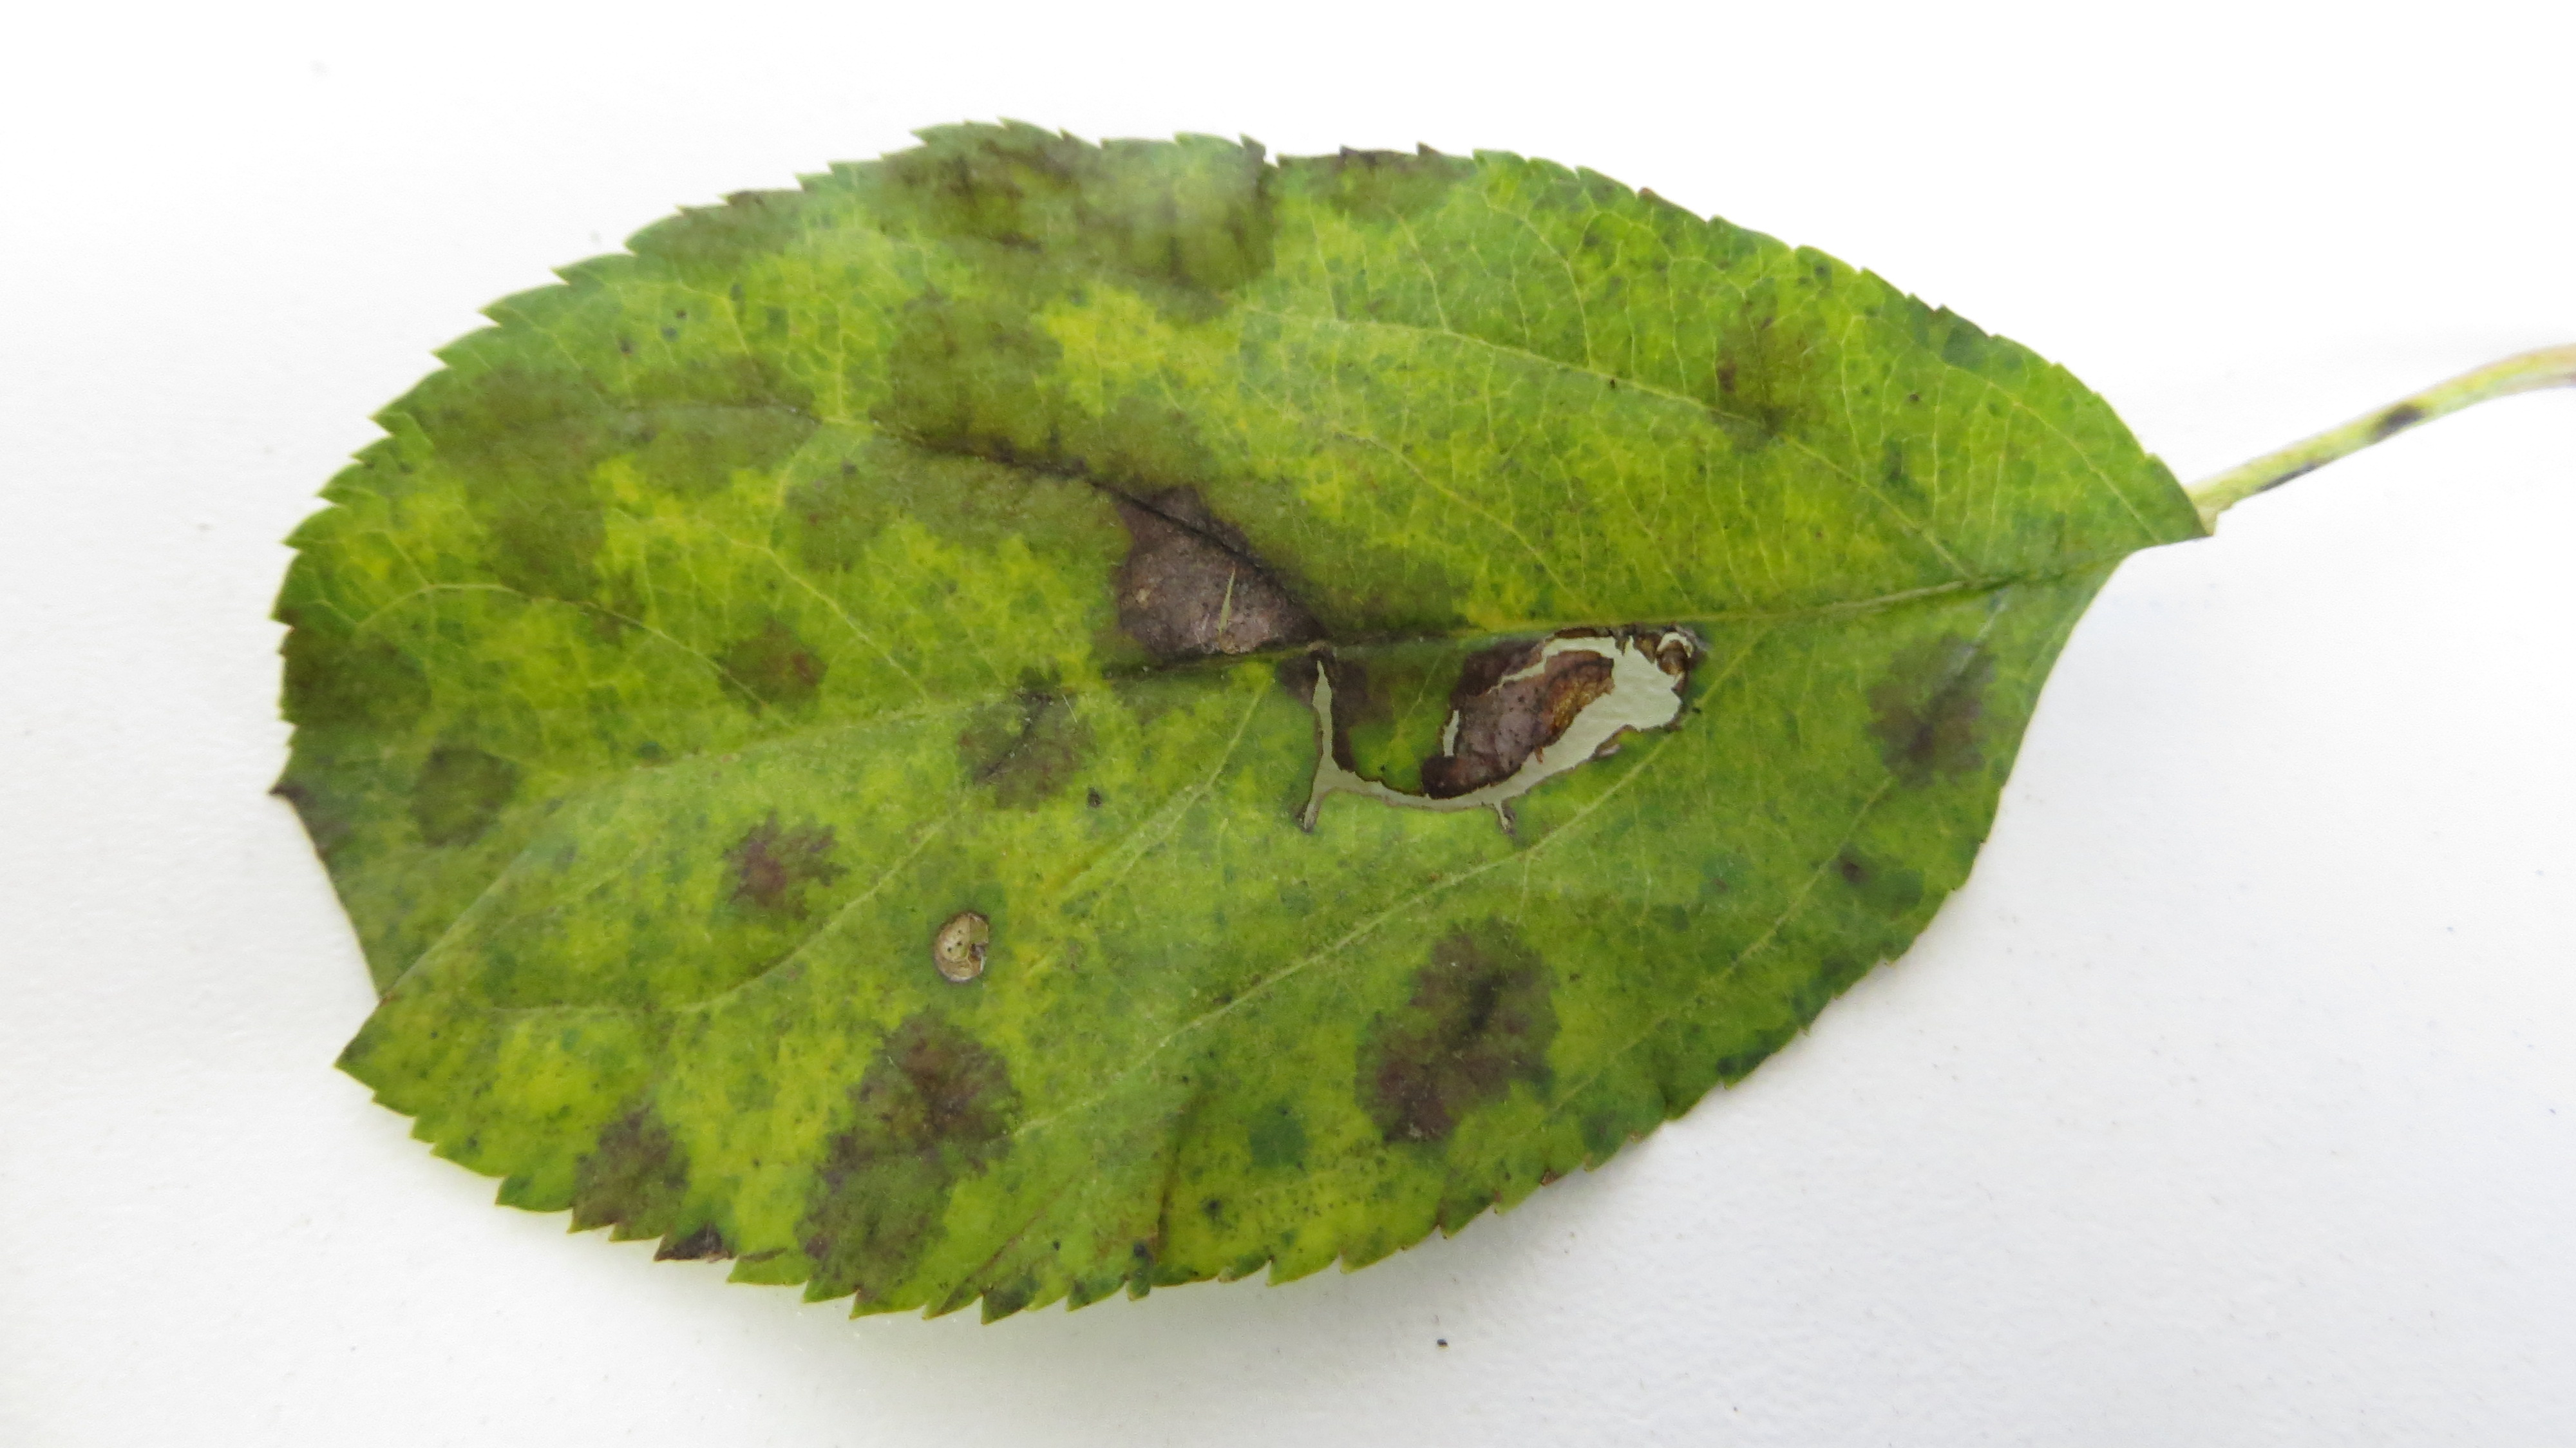sarna: (791, 997, 1031, 1282), (1076, 386, 1283, 705), (931, 119, 1254, 317), (1269, 483, 1476, 786), (846, 324, 1109, 561), (426, 343, 637, 611), (1355, 892, 1555, 1170), (1463, 593, 1700, 818), (628, 338, 844, 508), (1844, 616, 1997, 800), (550, 1090, 713, 1250), (1688, 280, 1822, 467), (943, 660, 1102, 816), (701, 793, 863, 942), (389, 719, 538, 862), (1311, 124, 1465, 246), (708, 600, 832, 717), (1813, 836, 1939, 928)
